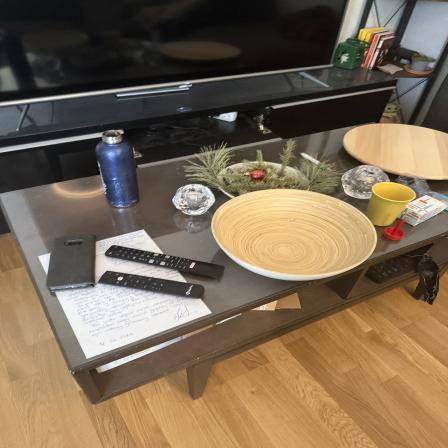blue_bottle: (96, 129, 143, 205)
phone: (51, 232, 96, 292)
yellow_cup: (370, 180, 416, 230)
